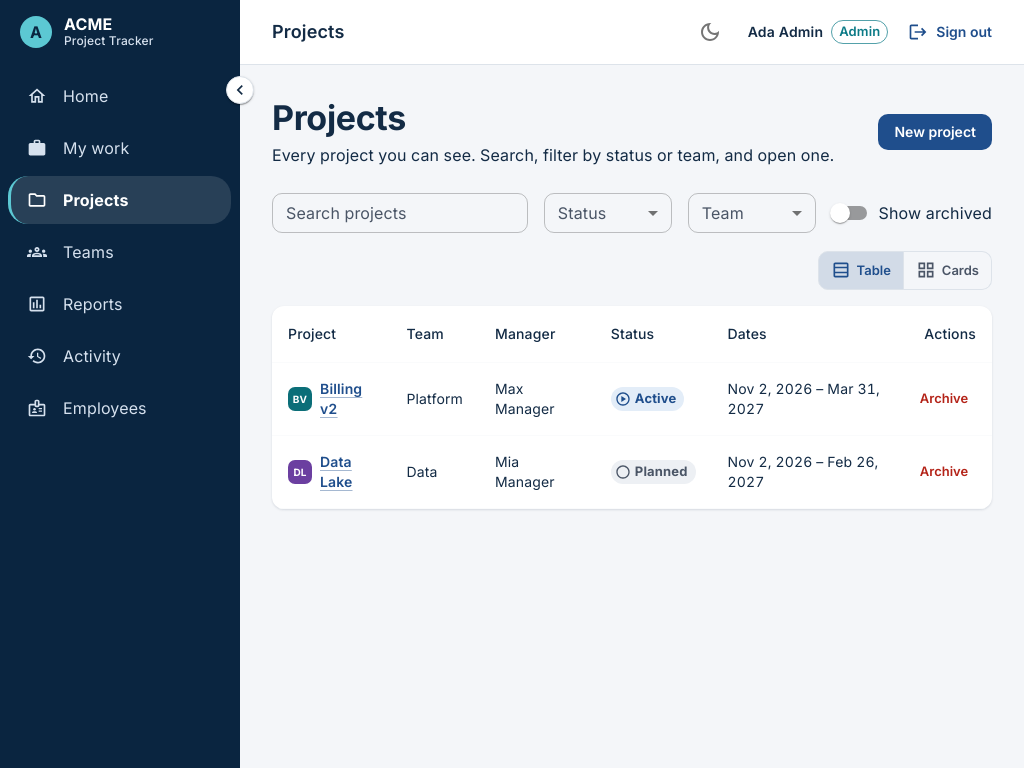
AppShell: collapsible sidebar › collapses to an icon rail and back; the links keep their names
The width and height of the screenshot is (1024, 768).
Expected: the heading "Projects" is shown, [272,97,406,138]
Click the button named "Collapse sidebar": (240, 90) [226,76,254,104]
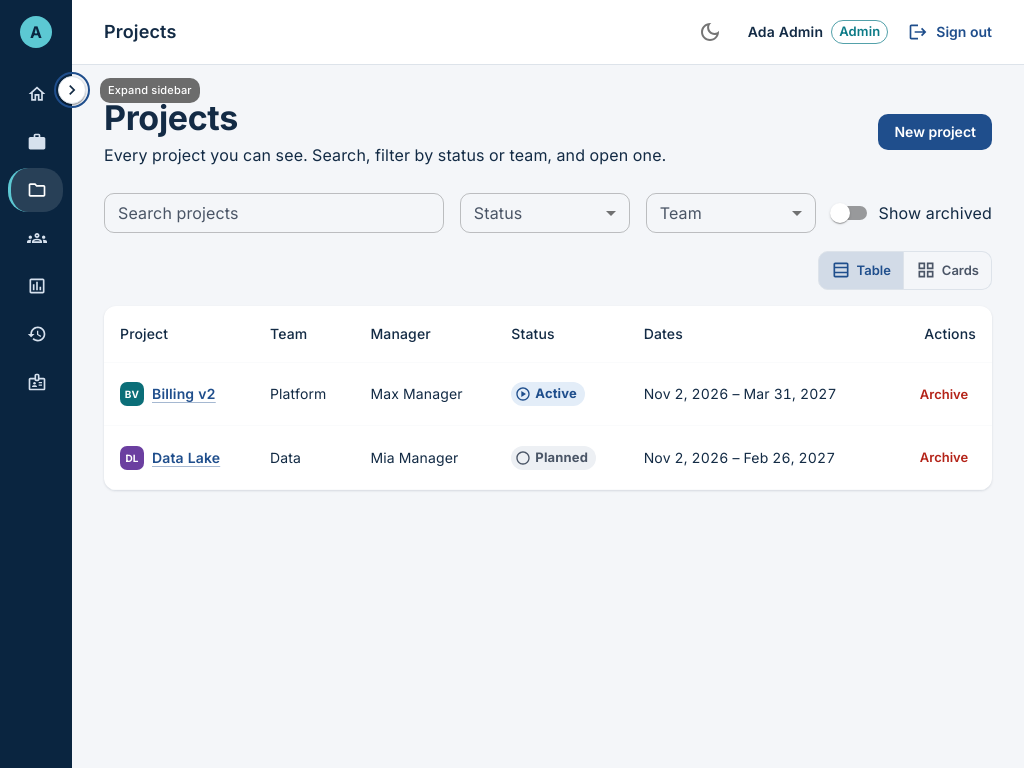
Result: the button named "Expand sidebar" is collapsed
Click the button named "Expand sidebar": (72, 90) [58,76,86,104]
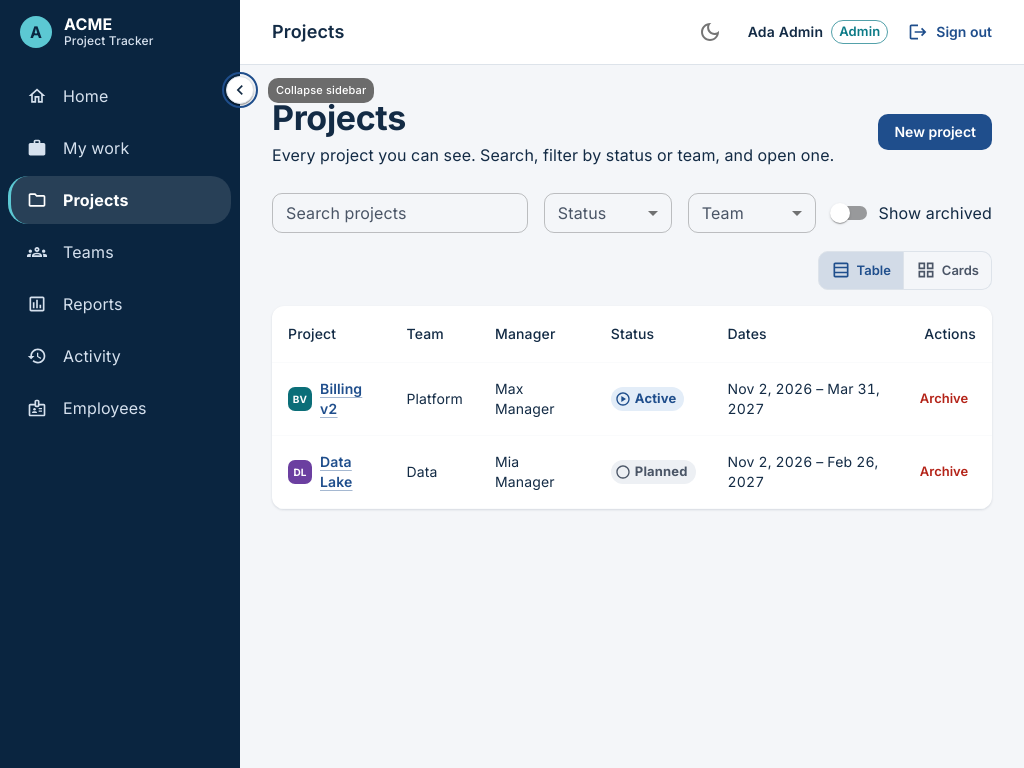
Result: the button named "Collapse sidebar" is expanded at [226,76,254,104]
